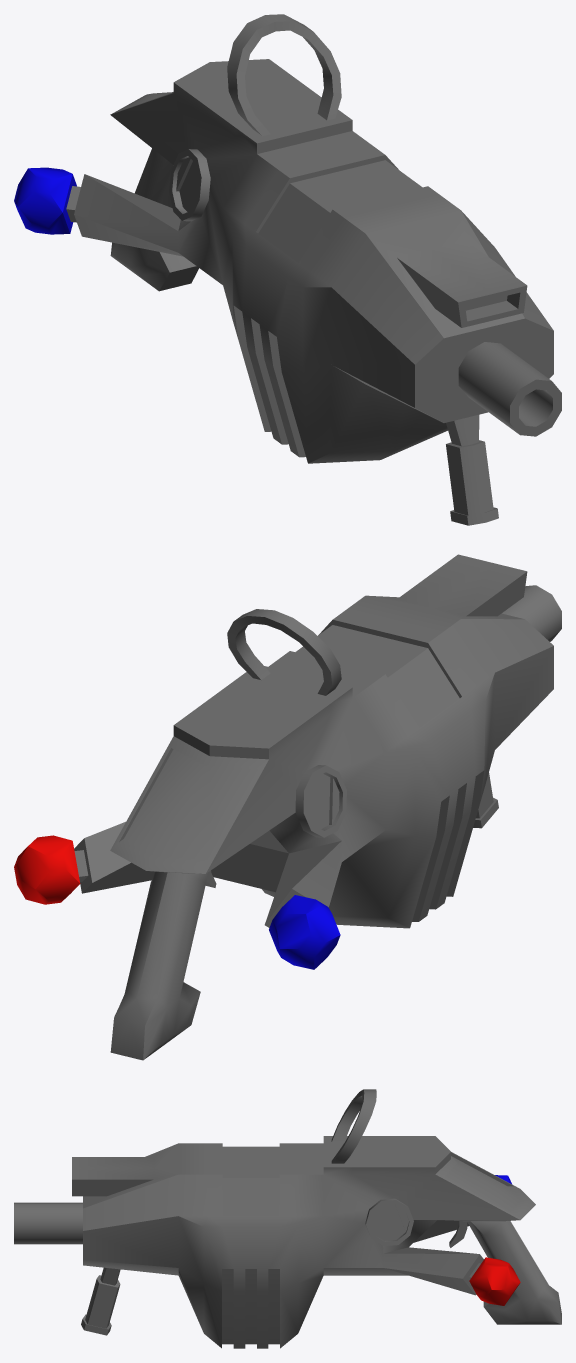
3 renders of one model, top to bottom at view 1: azimuth 30°, elevation 25°; view 2: azimuth 150°, elevation 25°; view 3: azimuth 270°, elevation 25°, orthographic. The views are drawn at different scales.
Visible parts, largest first — view 1: Cube; view 2: Cube; view 3: Cube.
Boxes of the visible parts, x1,y1,x2,y2 form: Cube: [14, 14, 561, 525]; Cube: [14, 554, 561, 1060]; Cube: [14, 1089, 561, 1348].
Bounding box in the file's own units: 24.95 × 26.66 × 54.82.
